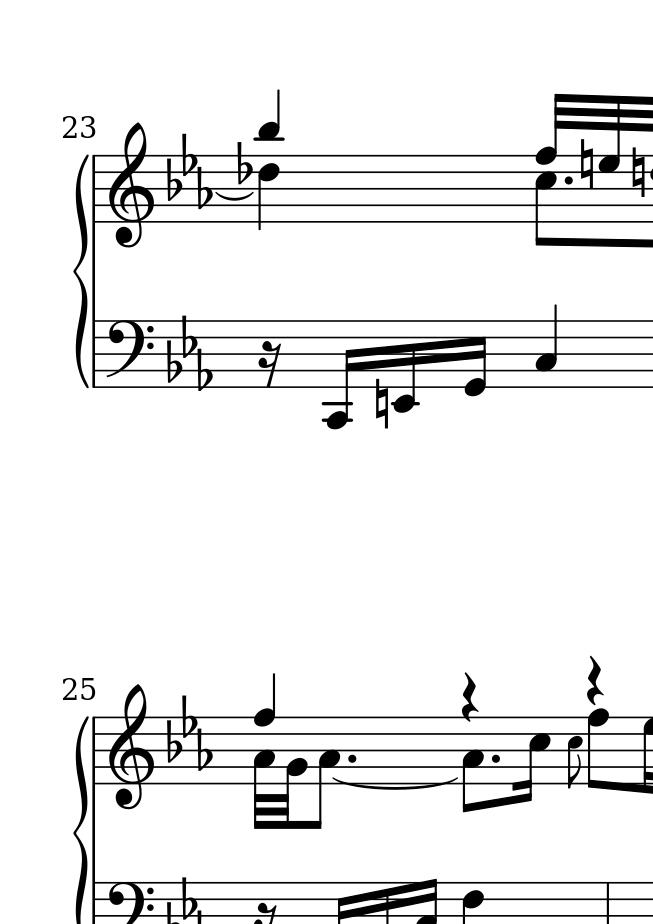16_-2: (391, 319, 417, 415)
16_-4: (321, 318, 359, 432)
16_0: (462, 318, 490, 399)
16_5: (514, 715, 551, 806)
2: (60, 677, 78, 702), (61, 114, 78, 140)
3: (79, 114, 97, 140)
32_2: (277, 716, 308, 830)
32_7: (598, 93, 622, 224)
4_3: (534, 303, 559, 389)
4_6_11: (257, 87, 283, 231)
5: (80, 672, 96, 704)
8_3: (310, 715, 341, 831), (462, 716, 485, 815)
8_5: (566, 717, 583, 790)
8_8: (586, 707, 610, 792)
Brace: (72, 153, 90, 388)
E_F: (166, 312, 215, 392), (165, 692, 212, 769), (167, 132, 211, 208)
Fclef: (103, 319, 154, 390)
Flat: (234, 140, 252, 186)
Gclef: (106, 683, 154, 811), (107, 121, 154, 249)
Natural: (578, 136, 596, 192), (630, 145, 647, 201), (373, 377, 390, 431)
Rests16: (257, 340, 282, 390)
Rests4: (460, 671, 480, 724), (585, 654, 604, 706)
Single_barline: (88, 717, 102, 784), (89, 155, 102, 224), (90, 320, 102, 386)
Slur: (332, 776, 456, 792), (214, 190, 254, 202)
dot: (563, 174, 578, 189), (486, 751, 502, 765), (344, 751, 358, 765)
